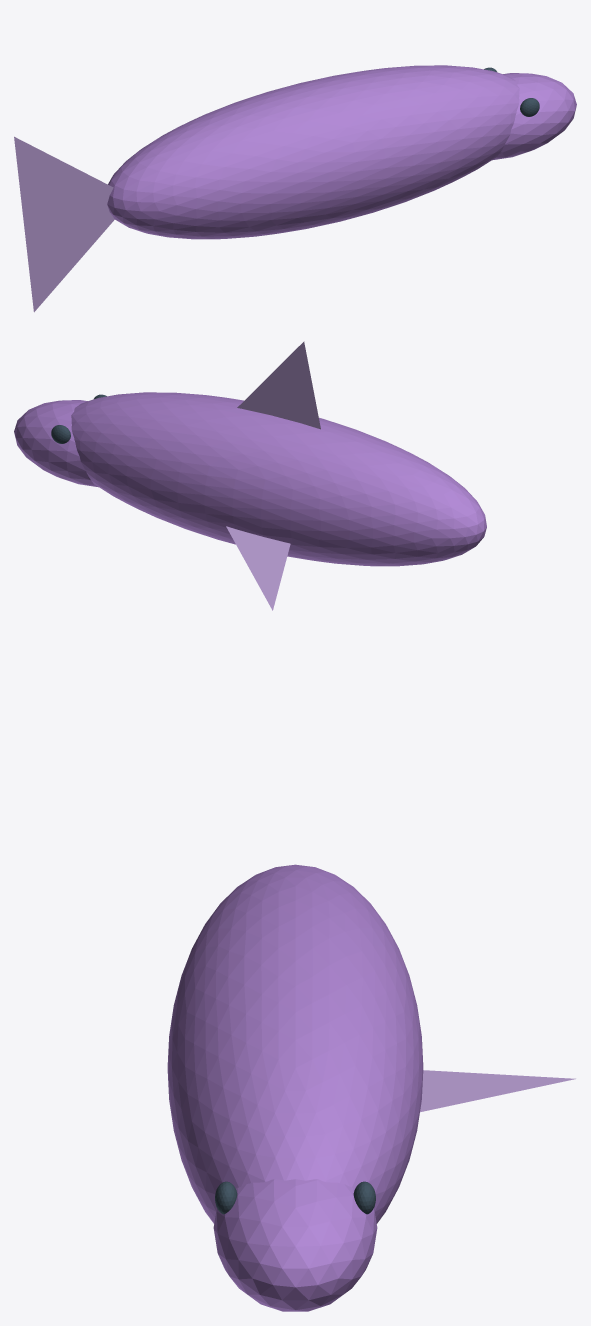
The picture shows the model from 3 angles, top to bottom: view 1: azimuth 30°, elevation 25°; view 2: azimuth 150°, elevation 25°; view 3: azimuth 270°, elevation 25°; orthographic projection. The views are drawn at different scales.
Parts seen in each view (by area): view 1: shark_00, shark_02, shark_01; view 2: shark_00, shark_01, shark_03, shark_04; view 3: shark_00, shark_01, shark_04.
Part boxes in pixels (left/top/right/bottom): shark_00: left=107, top=65, right=519, bottom=239; shark_02: left=14, top=136, right=114, bottom=312; shark_01: left=492, top=73, right=576, bottom=160; shark_00: left=71, top=392, right=486, bottom=566; shark_01: left=14, top=400, right=98, bottom=487; shark_03: left=237, top=341, right=320, bottom=429; shark_04: left=226, top=526, right=290, bottom=610; shark_00: left=167, top=864, right=423, bottom=1223; shark_01: left=213, top=1179, right=377, bottom=1311; shark_04: left=420, top=1070, right=575, bottom=1112.
Bounding box in the file's own units: 4.2 × 1.7 × 2.2.
